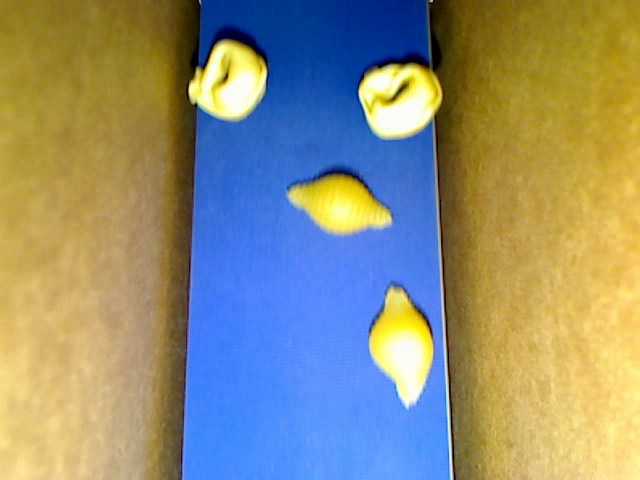shell: (366, 285, 432, 409), (285, 174, 393, 236)
tortellini: (358, 61, 442, 139), (189, 39, 266, 122)
